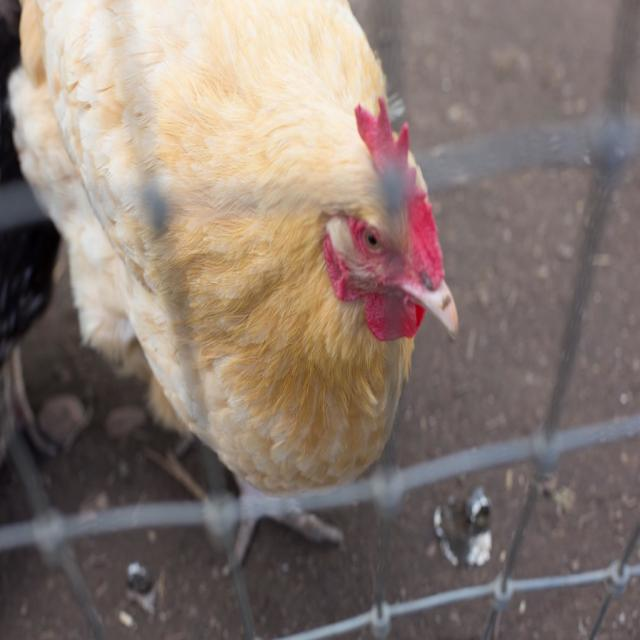Chicken: (0, 0, 464, 582)
